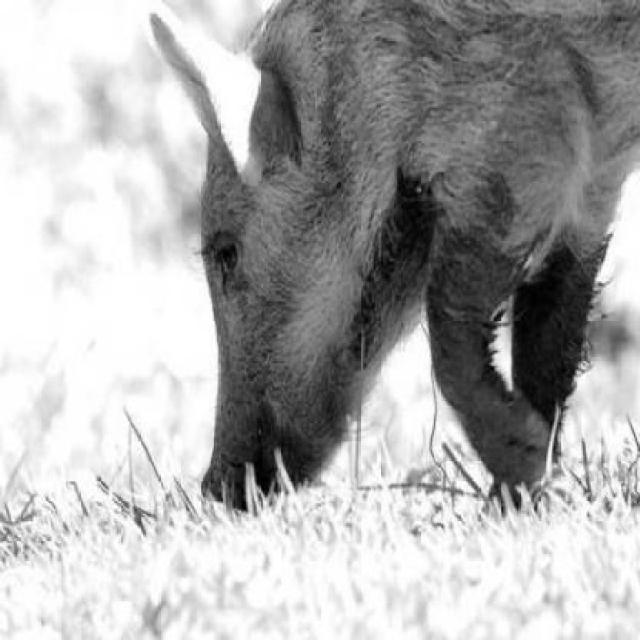Boar: (136, 0, 624, 546)
